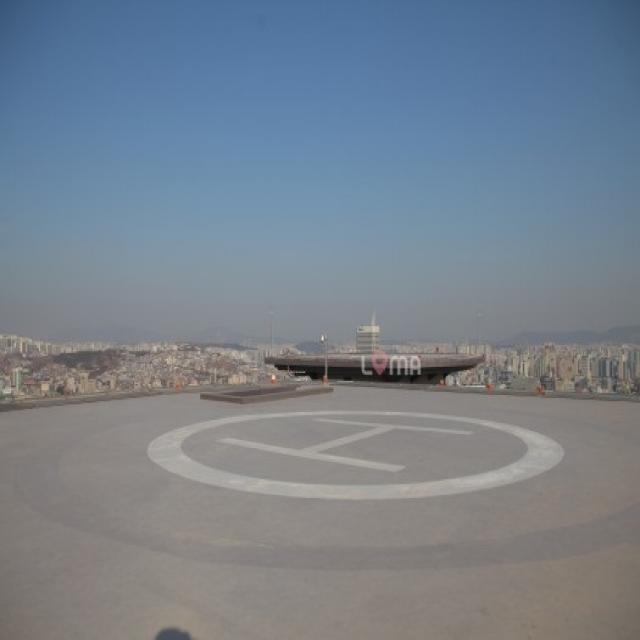helipad: (140, 401, 566, 506)
